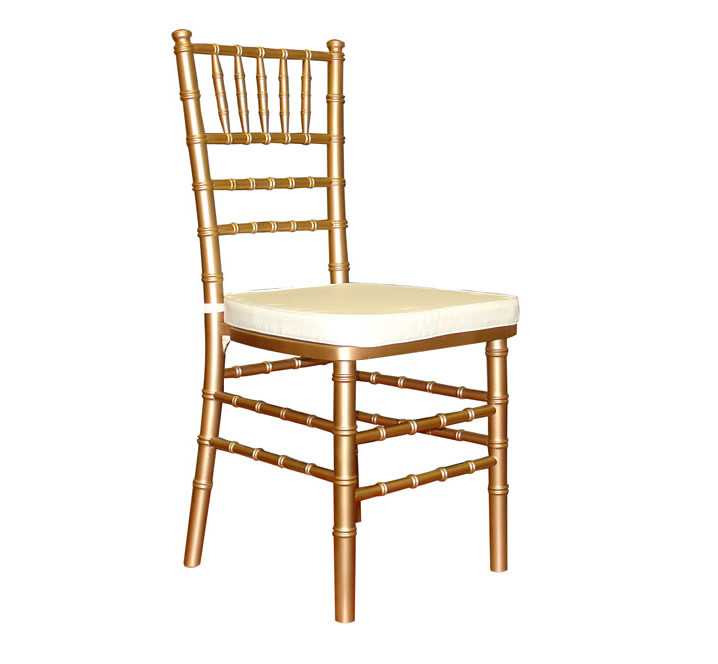chairs: (166, 24, 521, 624)
